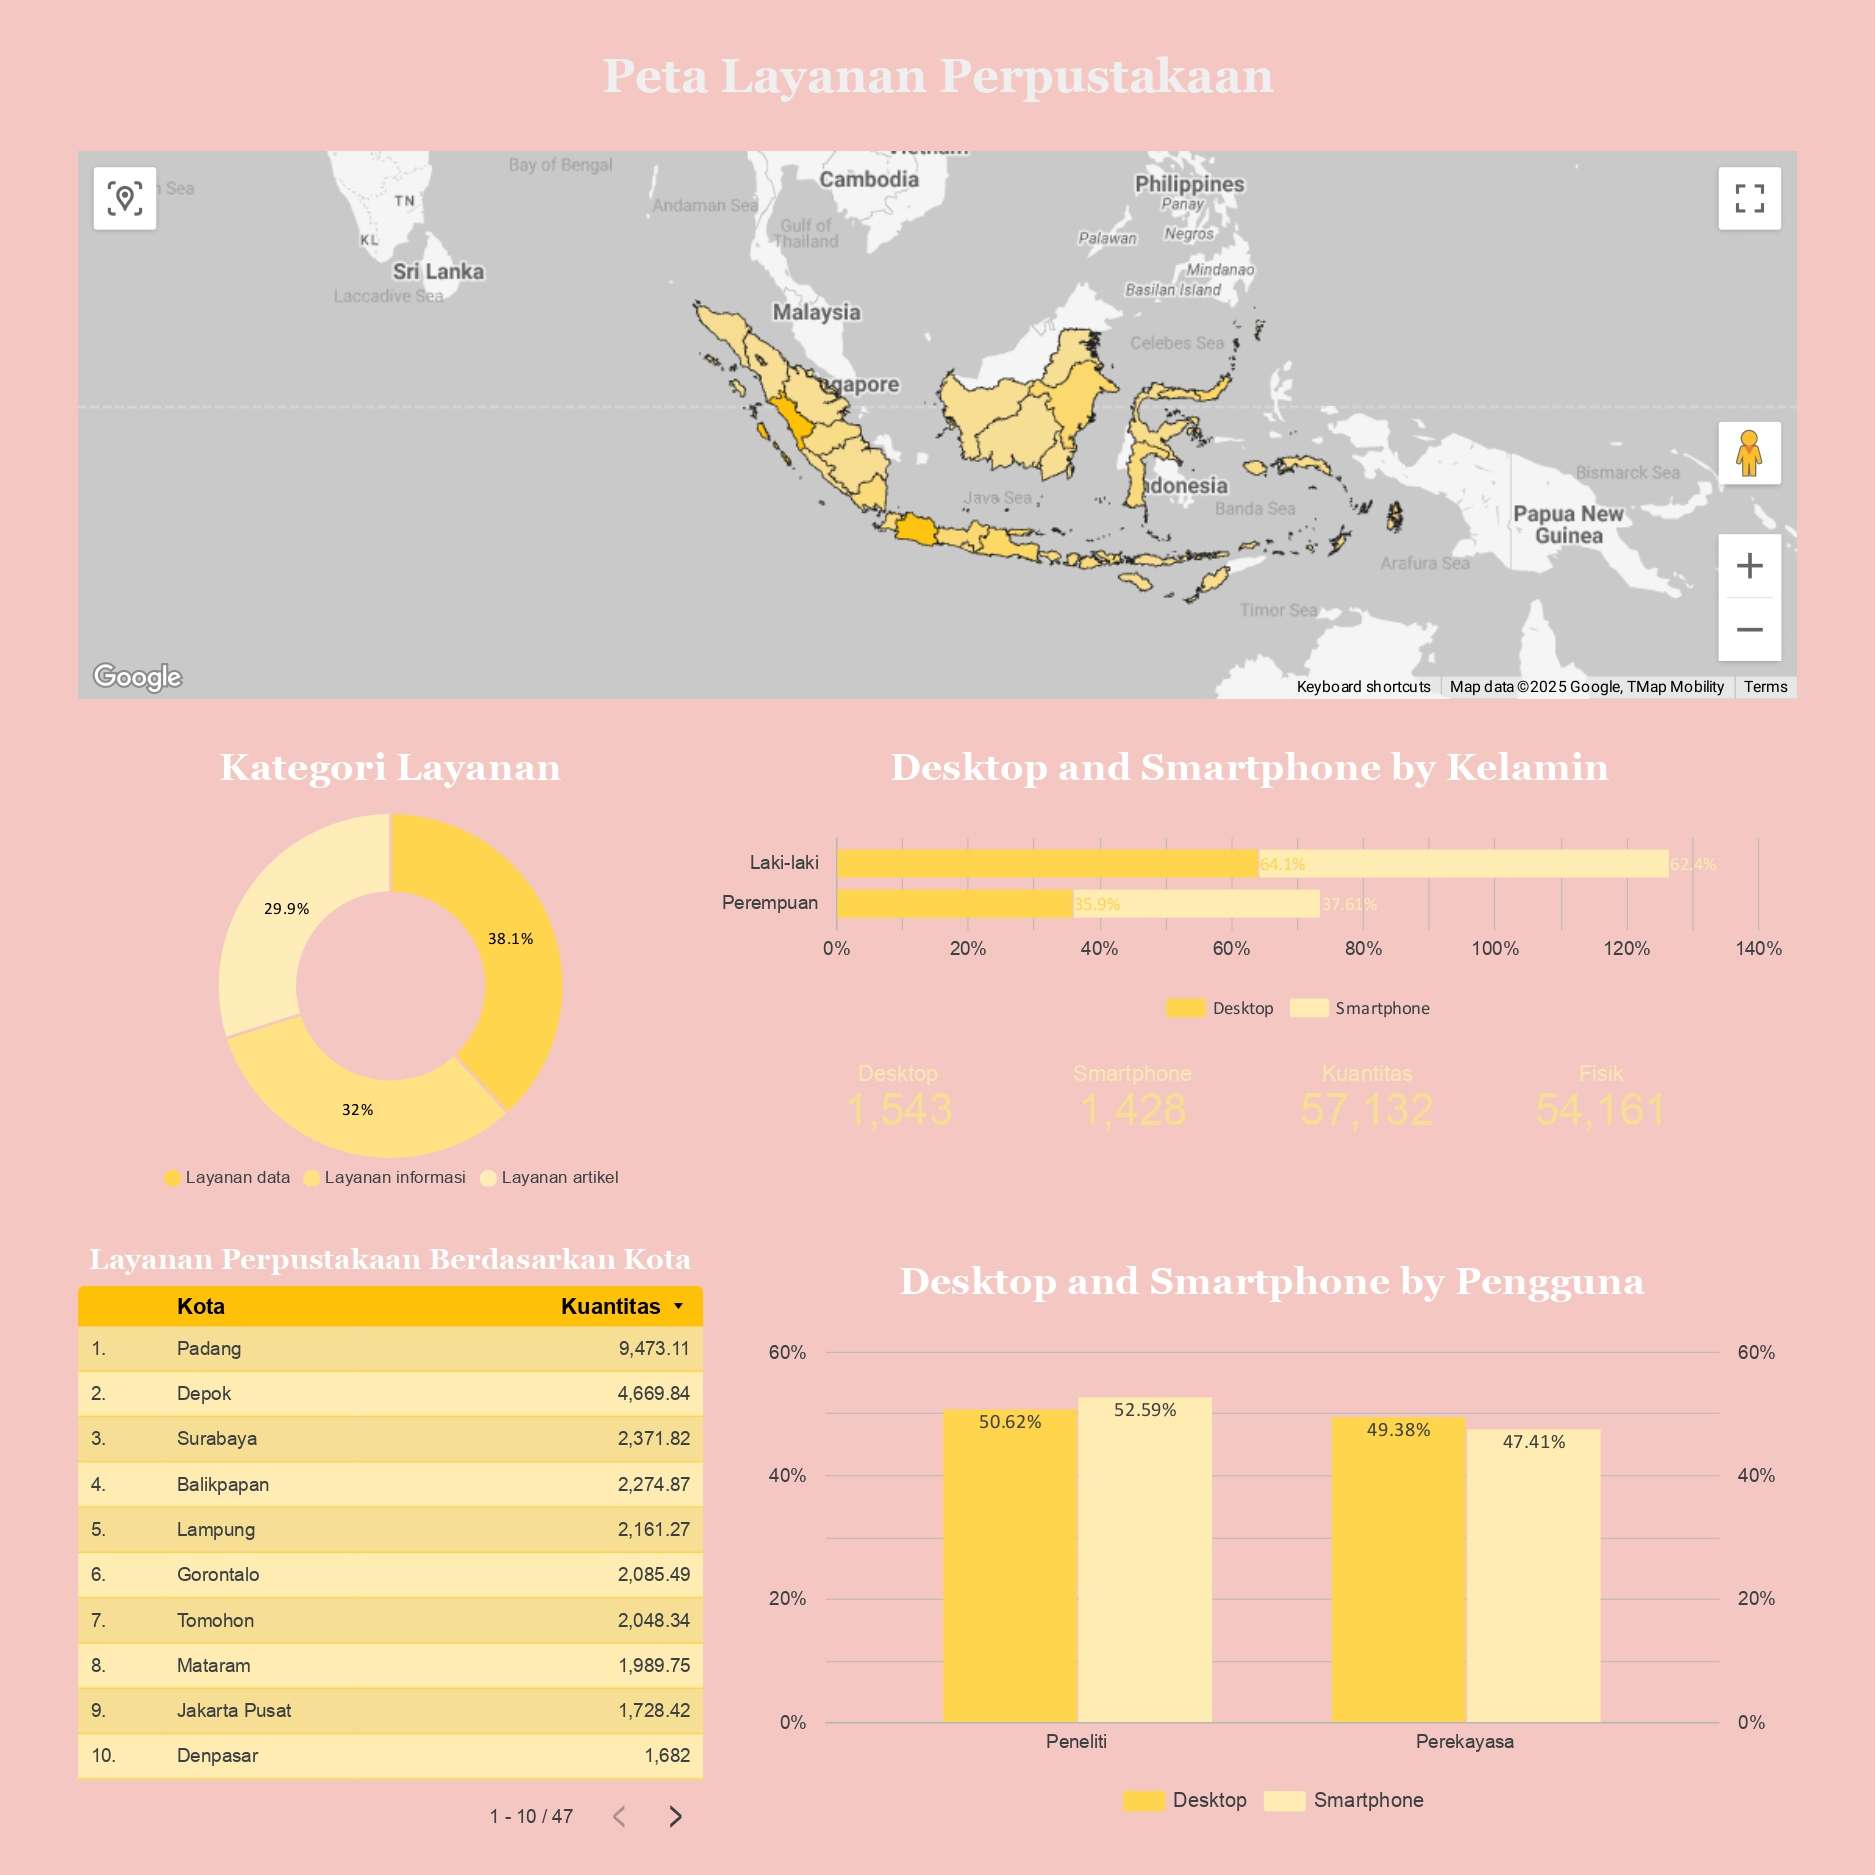

The page's visual inventory and layout, read from the dashboard file:
{"tool":"tableau","page":{"name":"Dasbor Peta","canvas":[1000,800],"ordinal":0},"visuals":[{"type":"text","box":[8,8,325.8,327]},{"type":"worksheet","title":"Pulau","mark":"Automatic","box":[333.8,8,658.2,261.3]},{"type":"worksheet","title":"Provinsi","mark":"Automatic","box":[333.8,269.3,658.2,261.3]},{"type":"legend","title":"Pulau","param":"[federated.1eyp32y0x5mi6k1egf6j20a8o0zg].[sum:Kuantitas:qk]","box":[8,335,325.8,73]},{"type":"filter","title":"Pulau","param":"[federated.1eyp32y0x5mi6k1egf6j20a8o0zg].[none:Pulau:nk]","box":[8,408,325.8,61]},{"type":"worksheet","title":"Kota","mark":"Automatic","box":[333.8,530.7,658.2,261.3]}]}

Visuals, with their boxes on the page's 1000x800 design canvas (x1, y1, x2, y2). These are canvas units, not pixel positions in the 1875x1875 screenshot, which may show the page scaled, cropped or inside an application window:
text: rect(8, 8, 334, 335)
"Pulau" worksheet: rect(334, 8, 992, 269)
"Provinsi" worksheet: rect(334, 269, 992, 531)
"Pulau" legend: rect(8, 335, 334, 408)
"Pulau" filter: rect(8, 408, 334, 469)
"Kota" worksheet: rect(334, 531, 992, 792)
